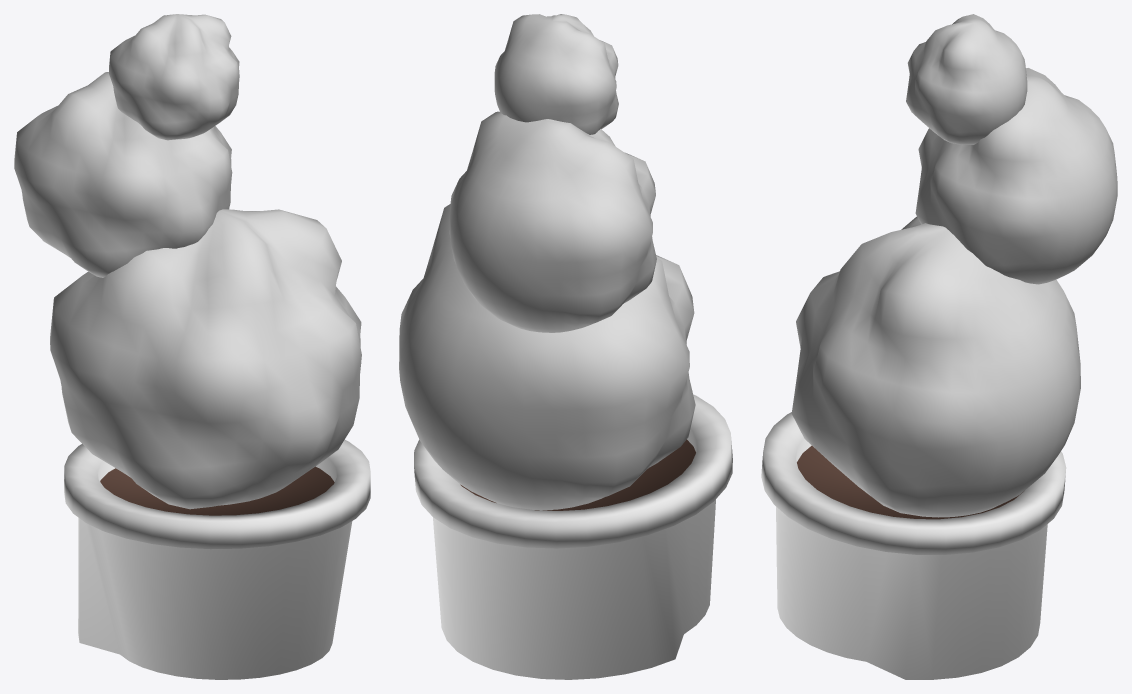
File: plant deko.fbx
The picture shows the model from 3 angles, left to right: view 1: azimuth 30°, elevation 25°; view 2: azimuth 150°, elevation 25°; view 3: azimuth 270°, elevation 25°; orthographic projection. The views are drawn at different scales.
Visible parts, largest first — view 1: Sphere.027, topf.059; view 2: Sphere.027, topf.059; view 3: Sphere.027, topf.059.
Boxes of the visible parts, x1,y1,x2,y2 form: Sphere.027: (14,14,361,509); topf.059: (64,440,370,679); Sphere.027: (399,14,695,510); topf.059: (414,394,732,679); Sphere.027: (791,14,1117,517); topf.059: (761,412,1066,679).
Size of the model in its own units: 13.52 by 28 by 15.05.
